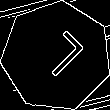L_SW: (27, 27, 86, 85)
